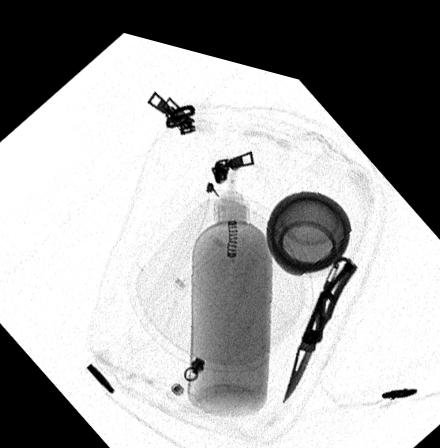Knife: (281, 235, 357, 388)
